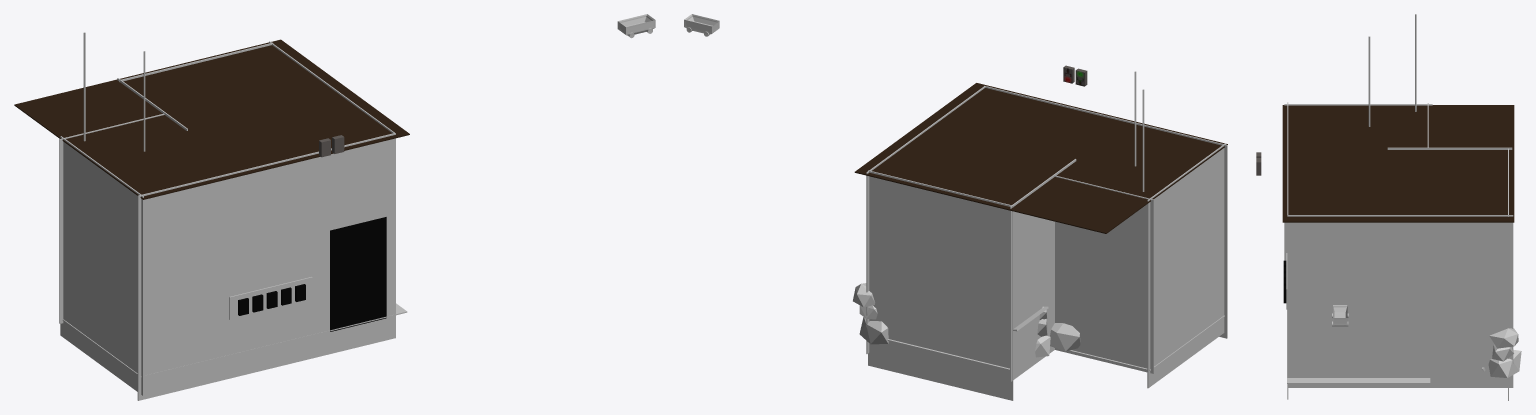
The model's file is mineCARTfixed.fbx.
3 renders of one model, left to right at view 1: azimuth 30°, elevation 25°; view 2: azimuth 150°, elevation 25°; view 3: azimuth 270°, elevation 25°, orthographic. The views are drawn at different scales.
Parts seen in each view (by area): view 1: map, roof, switchInterface, minecart, lift; view 2: map, roof, lift, minecart; view 3: map, roof, lift, minecart.
Boxes of the visible parts, bbox=[...] form: map: bbox=[59, 41, 407, 400]; roof: bbox=[14, 39, 409, 199]; switchInterface: bbox=[229, 277, 312, 319]; minecart: bbox=[617, 14, 655, 38]; lift: bbox=[83, 32, 145, 151]; map: bbox=[853, 86, 1227, 400]; roof: bbox=[854, 83, 1227, 233]; lift: bbox=[1134, 71, 1144, 191]; minecart: bbox=[684, 14, 719, 36]; map: bbox=[1284, 102, 1521, 400]; roof: bbox=[1282, 105, 1514, 222]; lift: bbox=[1368, 14, 1416, 126]; minecart: bbox=[1332, 305, 1348, 326].
Bounding box in the file's own units: 7613 × 4197 × 3586.
